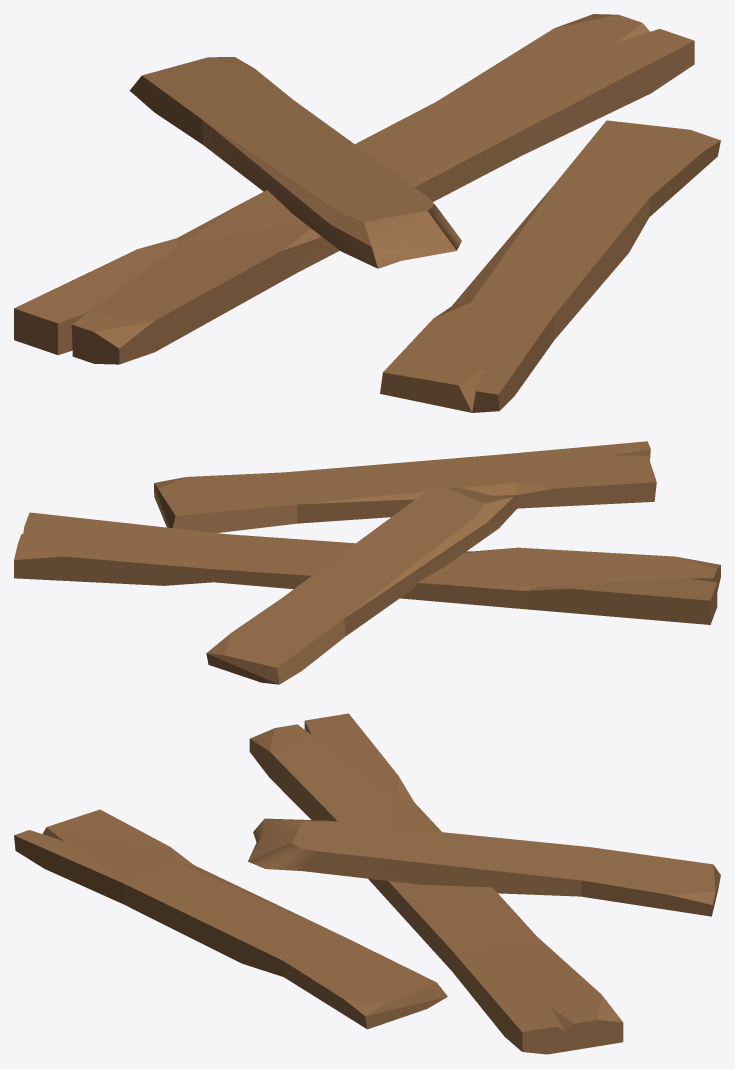
File: Plank_00.FBX
The picture shows the model from 3 angles, top to bottom: view 1: azimuth 30°, elevation 25°; view 2: azimuth 150°, elevation 25°; view 3: azimuth 270°, elevation 25°; orthographic projection. The views are drawn at different scales.
Parts seen in each view (by area): view 1: Plank_00; view 2: Plank_00; view 3: Plank_00.
Part boxes in pixels (x1,y1,x2,y2): Plank_00: (14,14,720,412); Plank_00: (14,441,720,684); Plank_00: (14,713,720,1054).
Size of the model in its own units: 17.17 by 1.32 by 16.1.
